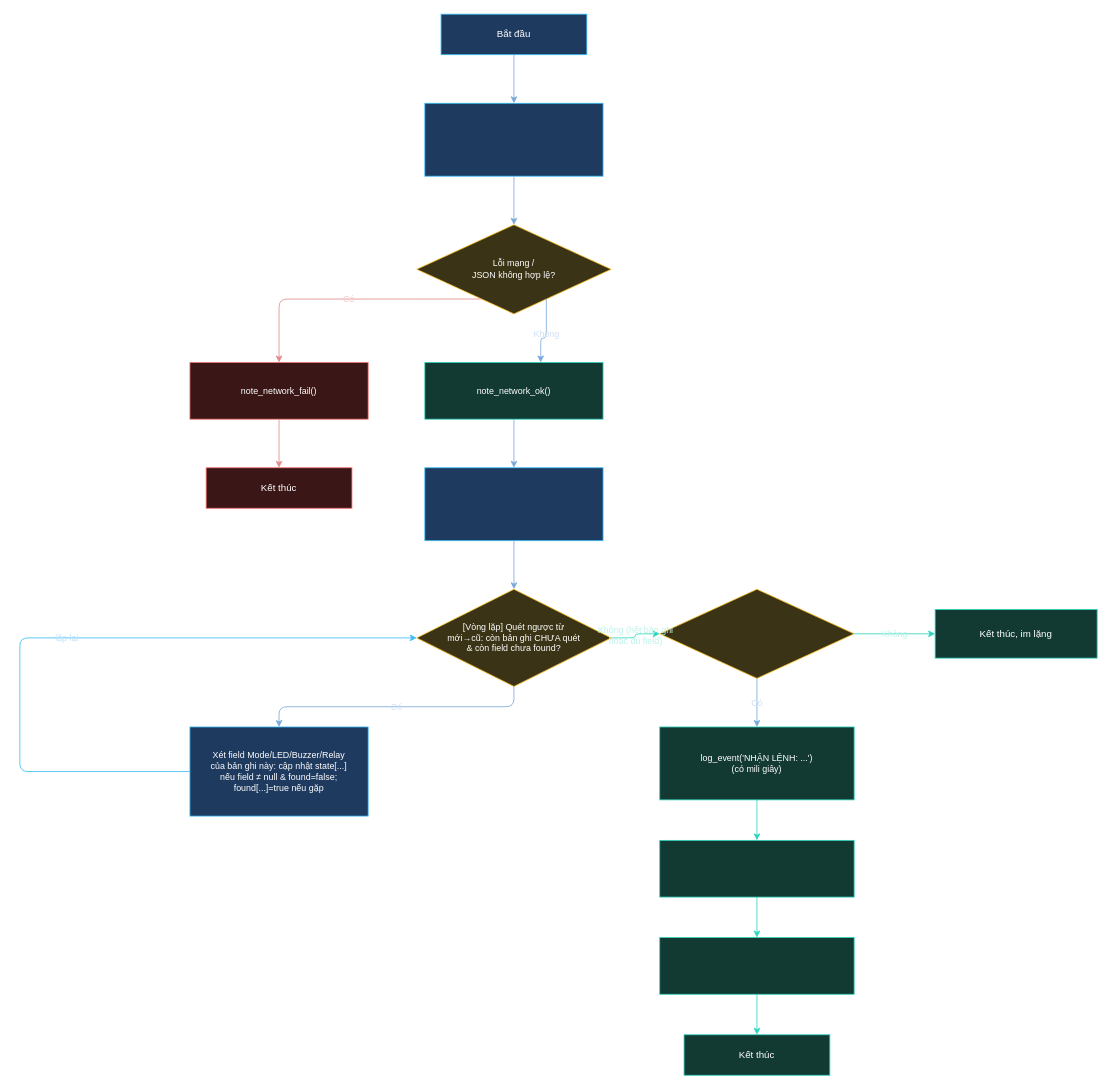
The diagram is 1111 pixels wide and 1089 high, and some of its shapes have lost their labels. The shapes that lost their labels are listed below. From the top down, each one's centre as x and y in pixels, then its label:
pixel 513 139: GET .../feeds.json results = 30 bản ghi gần nhất
pixel 513 504: found={mode,led,buzzer,relay:false} changed=false
pixel 756 633: changed == true?
pixel 756 868: apply_outputs()
pixel 756 965: log_event('ĐÃ ÁP DỤNG XONG: ...')
